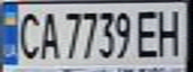3: (97, 8, 118, 60)
7: (78, 8, 100, 60), (60, 7, 81, 60)
9: (112, 7, 136, 60)
A: (36, 7, 60, 61)
C: (12, 8, 42, 61)
E: (133, 7, 163, 60)
H: (151, 5, 190, 57)
